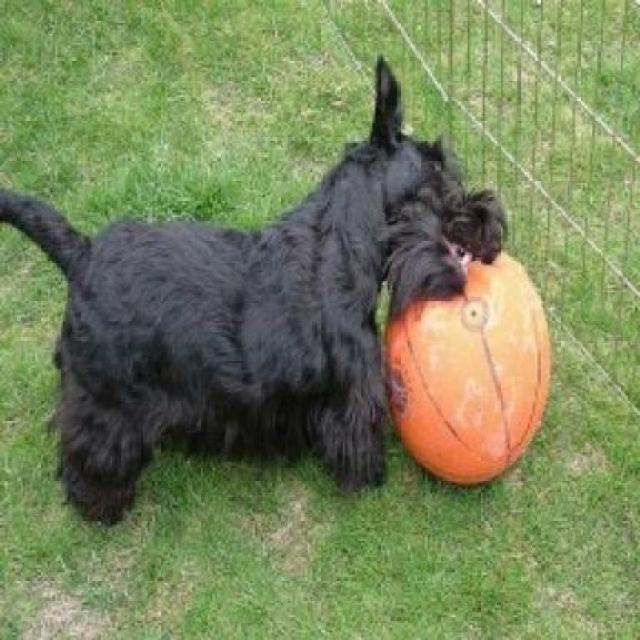basketball: (381, 228, 563, 488)
